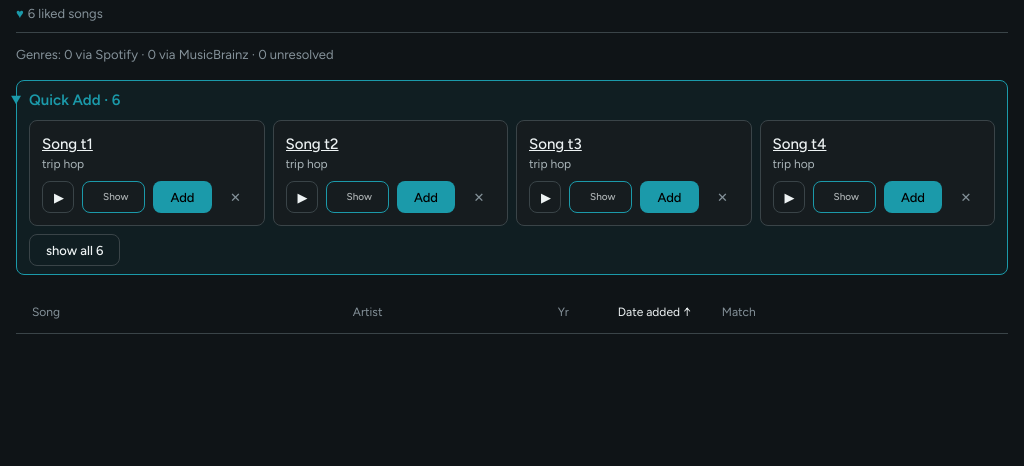
Test: expands the strip to every strong match, so capped songs are still reachable
The image size is (1024, 466).
Click the button "show all 6" at [75, 250], box [29, 234, 120, 266]
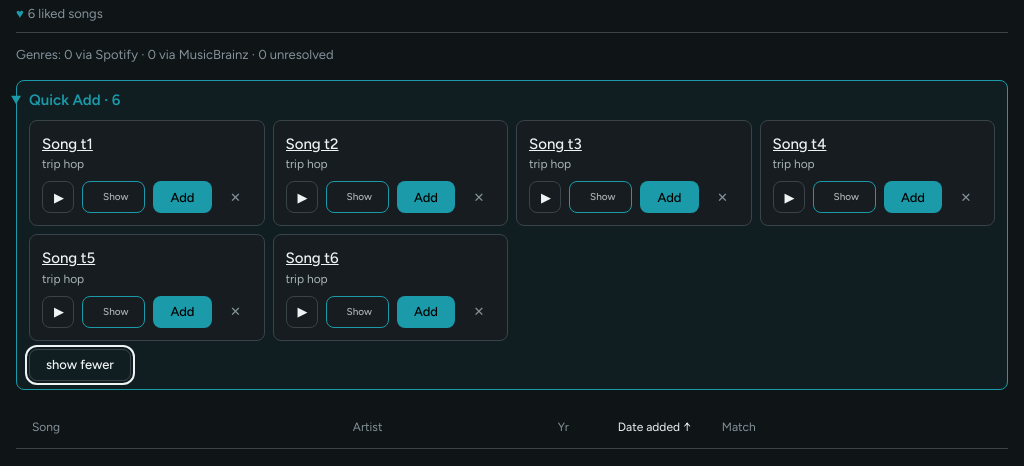
Expected: the number of list items with class "song-row" is 6, [29, 120, 264, 226]; [272, 120, 508, 226]; [516, 120, 752, 226]; [760, 120, 995, 226]; [29, 234, 264, 340]; [272, 234, 508, 340]
Expected: the button "show fewer" is shown, [29, 348, 131, 380]
